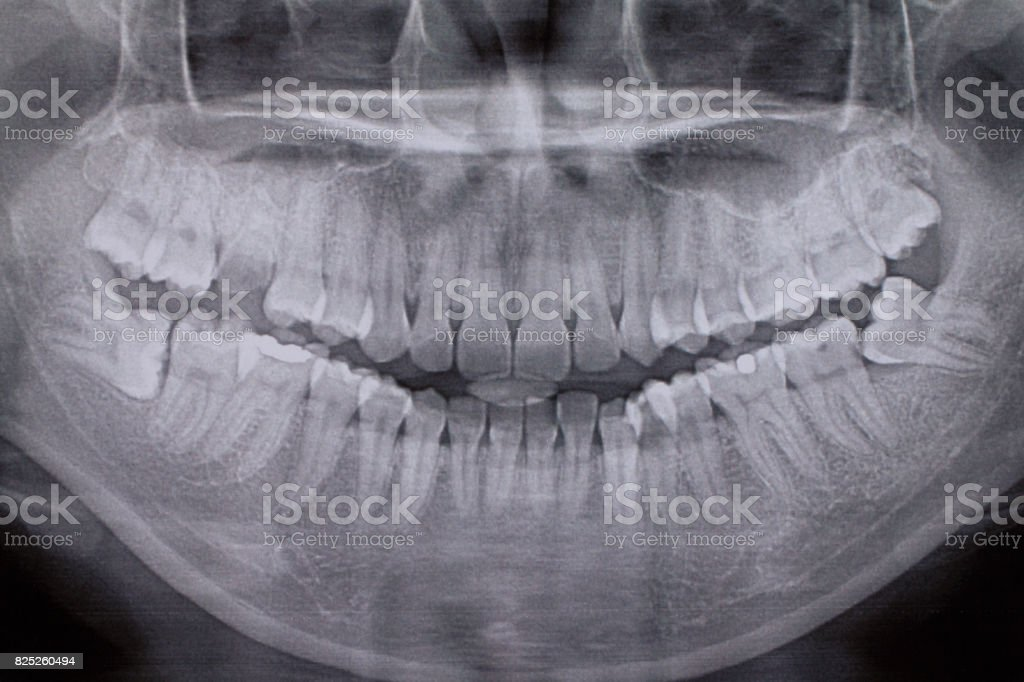canine: (598, 182, 672, 377), (355, 180, 421, 369), (394, 366, 451, 537), (590, 377, 650, 536)
incisor: (500, 195, 574, 388), (444, 195, 518, 386), (399, 206, 465, 380), (558, 203, 622, 377), (471, 367, 529, 534), (434, 366, 490, 534), (509, 375, 565, 533), (551, 381, 602, 534)
molar: (196, 299, 334, 492), (22, 254, 176, 411), (695, 337, 826, 505), (846, 252, 1001, 393), (767, 310, 905, 468), (717, 147, 827, 330), (783, 146, 893, 305), (75, 126, 179, 290), (833, 127, 951, 270), (150, 296, 247, 457), (137, 134, 222, 300)
premolar: (286, 338, 382, 520), (642, 364, 735, 519), (309, 159, 378, 349), (255, 165, 331, 336), (345, 352, 415, 536), (645, 185, 714, 359), (693, 182, 756, 354), (619, 375, 686, 533)
